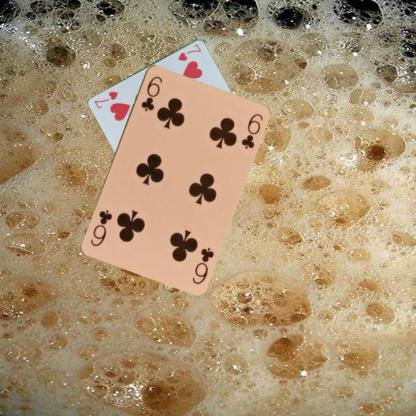6c: (189, 244, 215, 286), (138, 72, 164, 112)
7h: (175, 41, 202, 62)
